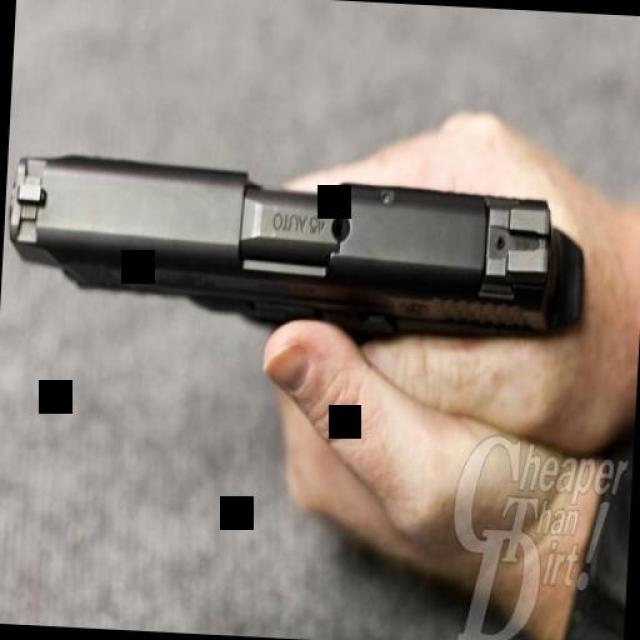gun: (2, 124, 568, 374)
